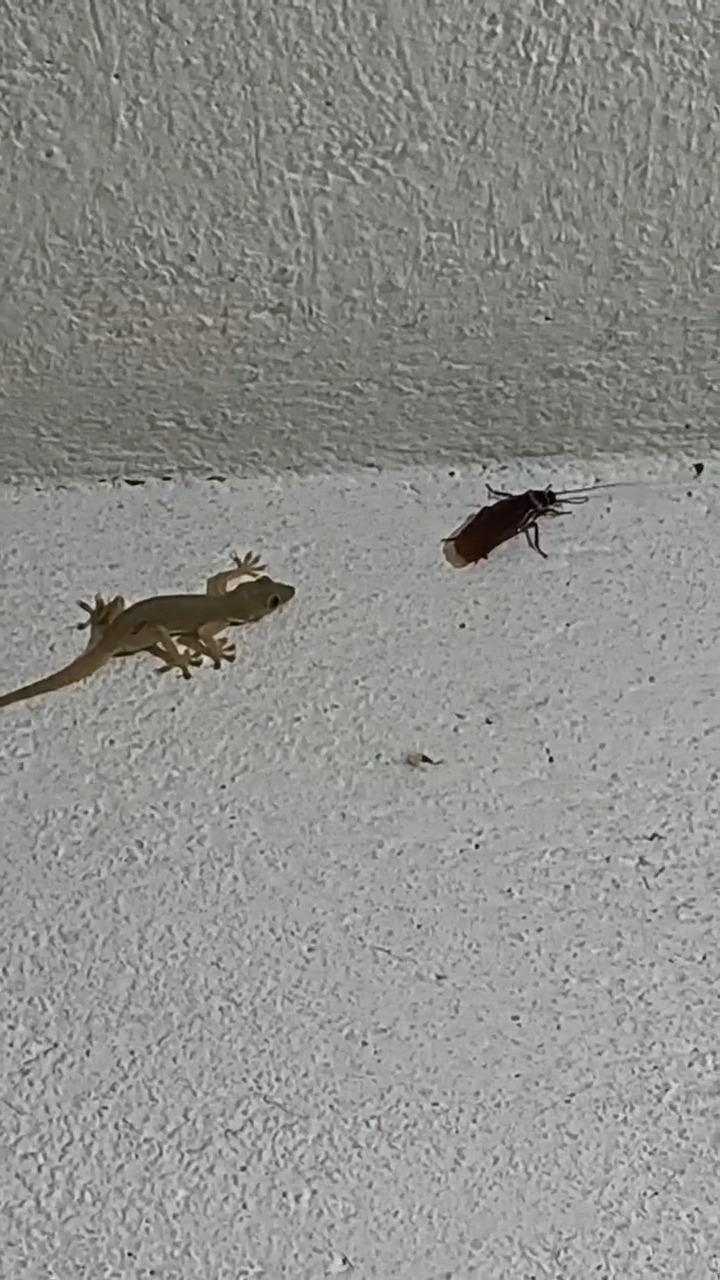cockroach: (440, 468, 617, 578)
lizard: (3, 538, 311, 716)
